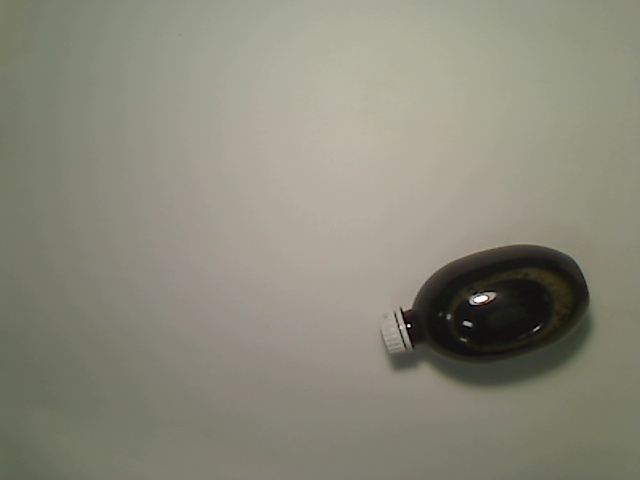plast_bottle: (375, 239, 593, 366)
